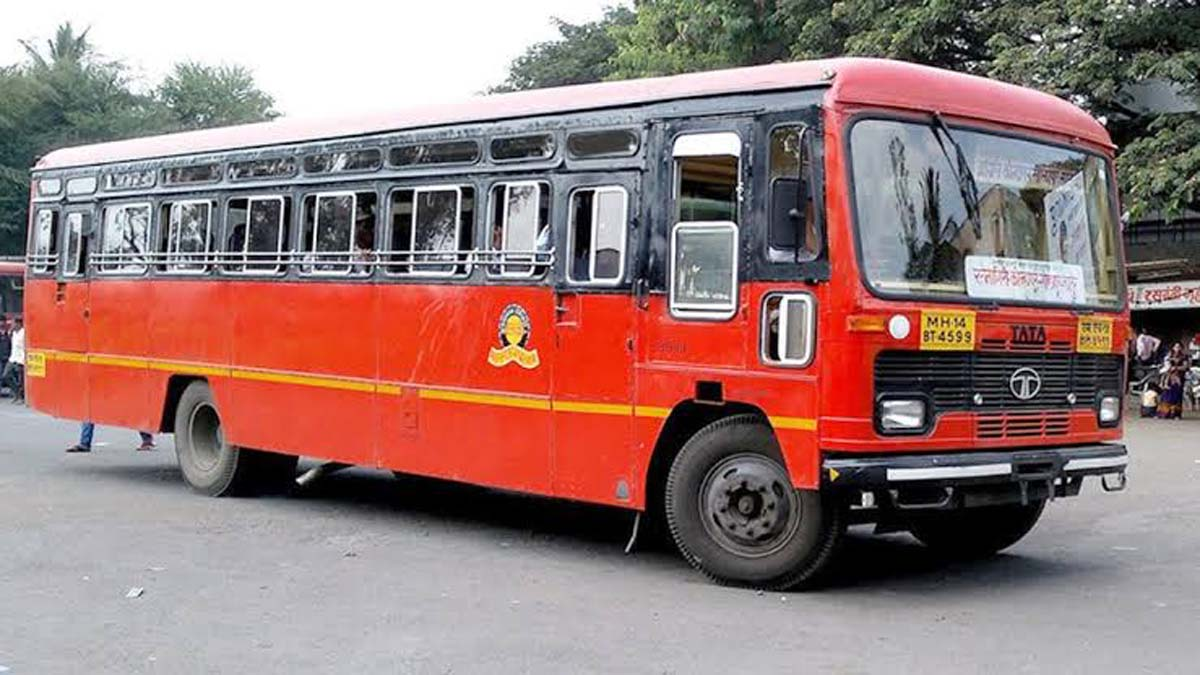bus: (21, 72, 1101, 461)
